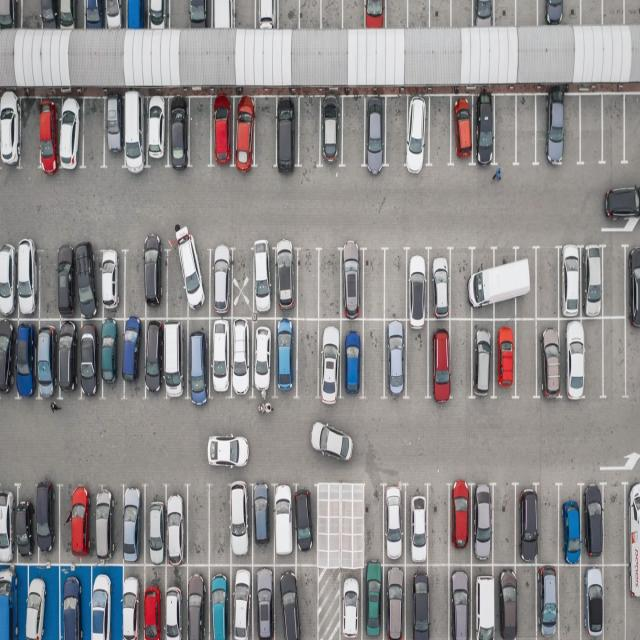space-empty: (602, 318, 628, 397), (293, 320, 319, 398), (405, 321, 431, 398), (517, 318, 543, 395), (448, 319, 473, 398), (361, 319, 386, 398), (557, 563, 583, 638), (492, 487, 517, 565), (254, 94, 280, 168), (423, 564, 449, 638), (292, 564, 318, 638), (425, 96, 452, 167), (297, 98, 324, 168), (228, 245, 253, 320), (341, 95, 367, 167), (534, 249, 560, 321), (188, 97, 214, 169), (537, 488, 561, 566), (426, 485, 449, 566), (82, 98, 108, 169), (209, 484, 232, 564), (185, 488, 209, 564), (293, 250, 319, 320), (448, 250, 474, 320), (492, 93, 517, 165), (604, 563, 628, 638), (362, 487, 384, 568), (603, 486, 625, 566), (604, 245, 628, 318), (382, 251, 407, 321), (603, 95, 628, 165), (583, 318, 605, 397), (515, 94, 539, 166), (384, 97, 408, 169), (316, 251, 341, 320), (580, 94, 604, 164), (516, 566, 539, 639), (20, 99, 43, 172), (360, 252, 385, 319), (124, 250, 148, 318), (166, 244, 188, 317), (318, 489, 337, 567), (562, 94, 582, 168), (38, 248, 59, 316), (625, 319, 640, 396), (624, 95, 640, 164), (319, 0, 343, 31), (342, 0, 366, 30), (384, 0, 408, 29), (407, 0, 431, 29), (298, 0, 322, 29), (277, 0, 300, 30), (21, 0, 43, 30), (169, 0, 191, 30), (451, 0, 474, 28), (430, 0, 453, 28), (234, 0, 256, 29), (515, 0, 538, 27), (493, 0, 515, 27), (601, 0, 624, 25), (581, 0, 603, 25), (624, 0, 640, 24)
space-occupied: (560, 317, 594, 397), (18, 564, 53, 640), (62, 484, 92, 561), (86, 566, 117, 640), (186, 318, 213, 402), (58, 566, 88, 640), (536, 320, 564, 399), (538, 94, 568, 166), (446, 482, 472, 563), (426, 321, 452, 401), (316, 319, 342, 399), (161, 318, 186, 400), (30, 481, 56, 559), (184, 242, 211, 317), (226, 563, 253, 638), (558, 248, 586, 320), (404, 97, 432, 169), (491, 246, 519, 318), (252, 319, 277, 399), (208, 244, 235, 318), (472, 564, 499, 638), (75, 247, 102, 321), (94, 486, 120, 562), (380, 485, 405, 564), (122, 318, 147, 397), (208, 318, 232, 400), (404, 250, 432, 320), (272, 318, 297, 396), (253, 242, 279, 317), (492, 320, 517, 398), (448, 564, 474, 639), (471, 319, 496, 396), (208, 96, 234, 170), (122, 96, 148, 170), (206, 564, 232, 638), (406, 483, 430, 563), (472, 485, 496, 565), (340, 318, 364, 398), (227, 319, 251, 399), (142, 96, 168, 169), (381, 319, 405, 398), (426, 249, 453, 319), (227, 481, 250, 563), (536, 563, 561, 638), (272, 245, 298, 317), (363, 97, 389, 169), (272, 482, 296, 560), (160, 568, 186, 640), (514, 486, 538, 564), (472, 246, 498, 318), (338, 250, 365, 319), (164, 486, 188, 563), (232, 98, 258, 169), (340, 569, 366, 640), (13, 319, 36, 399), (101, 250, 128, 318), (167, 98, 192, 171), (578, 562, 602, 638), (560, 488, 584, 564), (449, 96, 475, 166), (317, 97, 343, 167), (59, 98, 84, 170), (380, 563, 404, 638), (254, 563, 278, 638), (274, 563, 298, 638), (252, 482, 274, 563), (14, 245, 38, 319), (121, 565, 145, 639), (274, 97, 299, 168), (578, 246, 603, 317), (122, 487, 145, 564), (80, 319, 102, 399), (494, 567, 518, 640), (472, 98, 497, 168), (35, 321, 58, 397), (58, 320, 80, 399), (512, 247, 536, 319), (101, 317, 123, 395), (142, 486, 164, 564), (184, 565, 207, 639), (38, 98, 61, 172), (406, 564, 429, 638), (580, 489, 602, 566), (141, 566, 164, 639), (360, 567, 383, 640), (293, 488, 315, 564), (144, 319, 165, 398), (144, 247, 167, 317), (104, 98, 127, 168), (56, 247, 78, 319), (0, 95, 21, 168), (0, 565, 19, 640), (17, 486, 36, 559), (0, 489, 17, 566), (0, 244, 18, 316), (625, 482, 640, 563), (625, 561, 640, 637), (0, 319, 14, 397), (626, 246, 640, 319), (540, 0, 580, 25), (255, 0, 281, 30), (57, 0, 82, 29), (125, 0, 149, 30), (362, 0, 386, 29), (188, 0, 212, 29), (146, 0, 170, 28), (210, 0, 233, 29), (84, 0, 107, 29), (104, 0, 125, 30), (473, 1, 497, 27), (0, 0, 20, 30), (39, 0, 57, 29)
